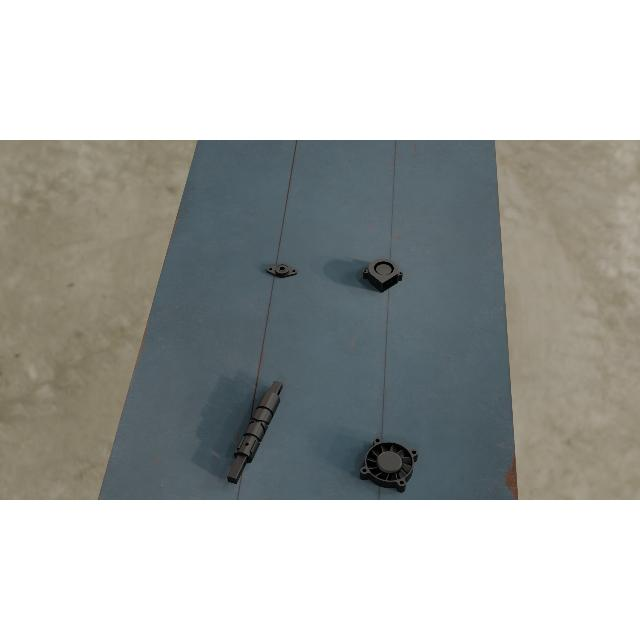Pieza1: (222, 376, 286, 488)
Pieza2: (266, 262, 298, 278)
Pieza3: (362, 254, 404, 294)
Pieza4: (358, 436, 420, 494)
